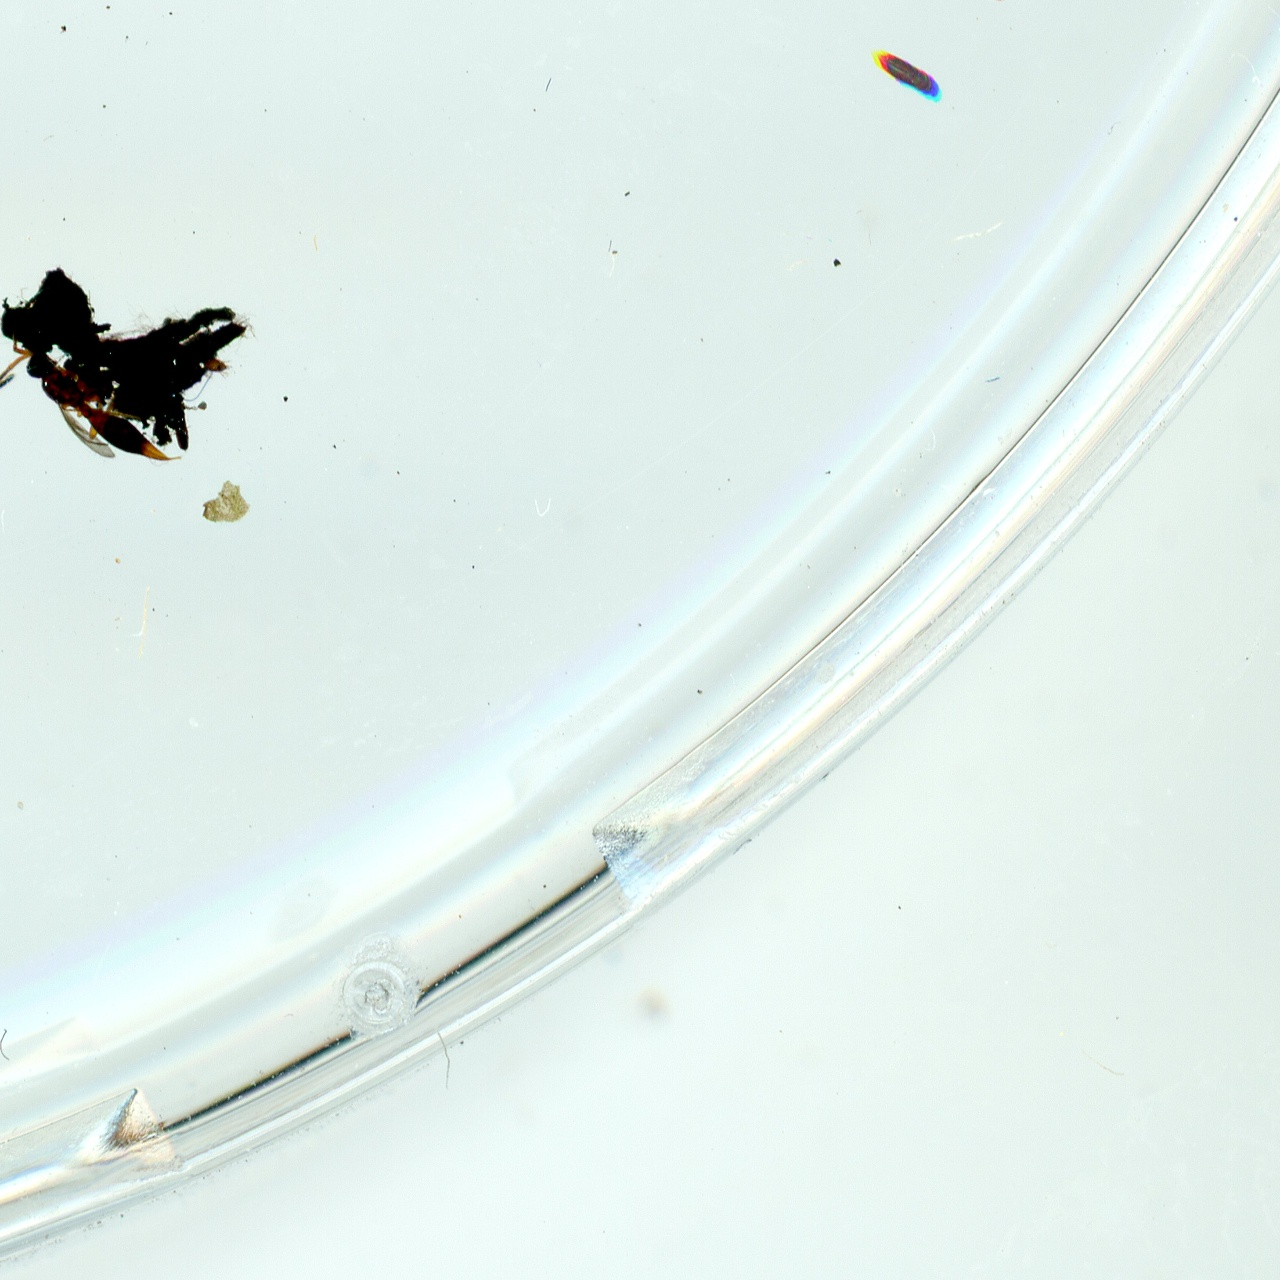arthropod: (0, 327, 196, 509)
